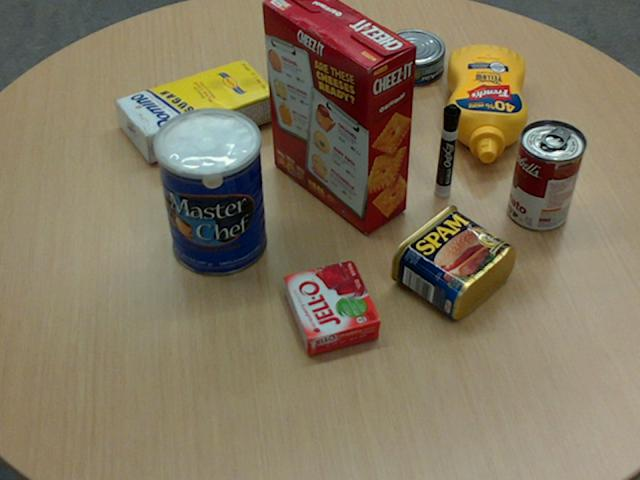cracker_box: (262, 0, 414, 233)
gelatin_box: (284, 260, 380, 355)
large_marker: (435, 104, 460, 196)
master_chef_can: (153, 107, 266, 276)
mug: (332, 34, 409, 127)
mustard_bottle: (445, 44, 526, 162)
potted_meat_can: (389, 203, 514, 318)
sugar_box: (114, 58, 278, 162)
tomato_soup_can: (508, 119, 585, 230)
tuna_fish_can: (379, 28, 444, 84)
